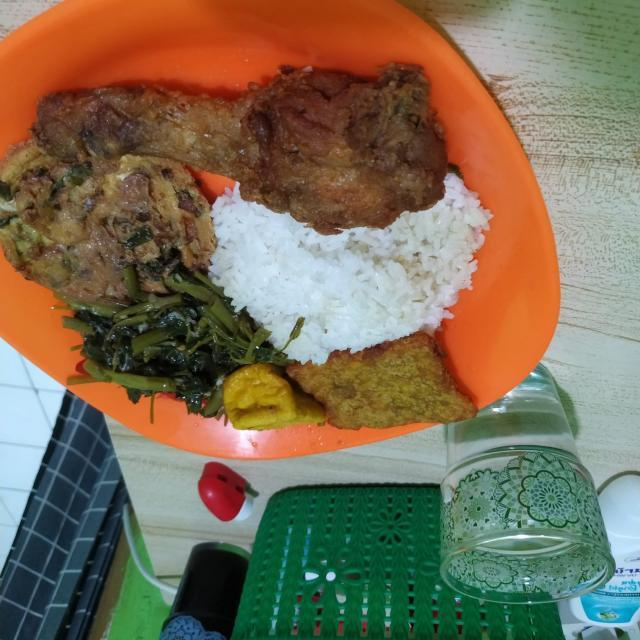ayam_goreng: (28, 54, 492, 202)
nasi_putih: (175, 160, 532, 386)
telur_ayam_dadar: (0, 158, 218, 332)
